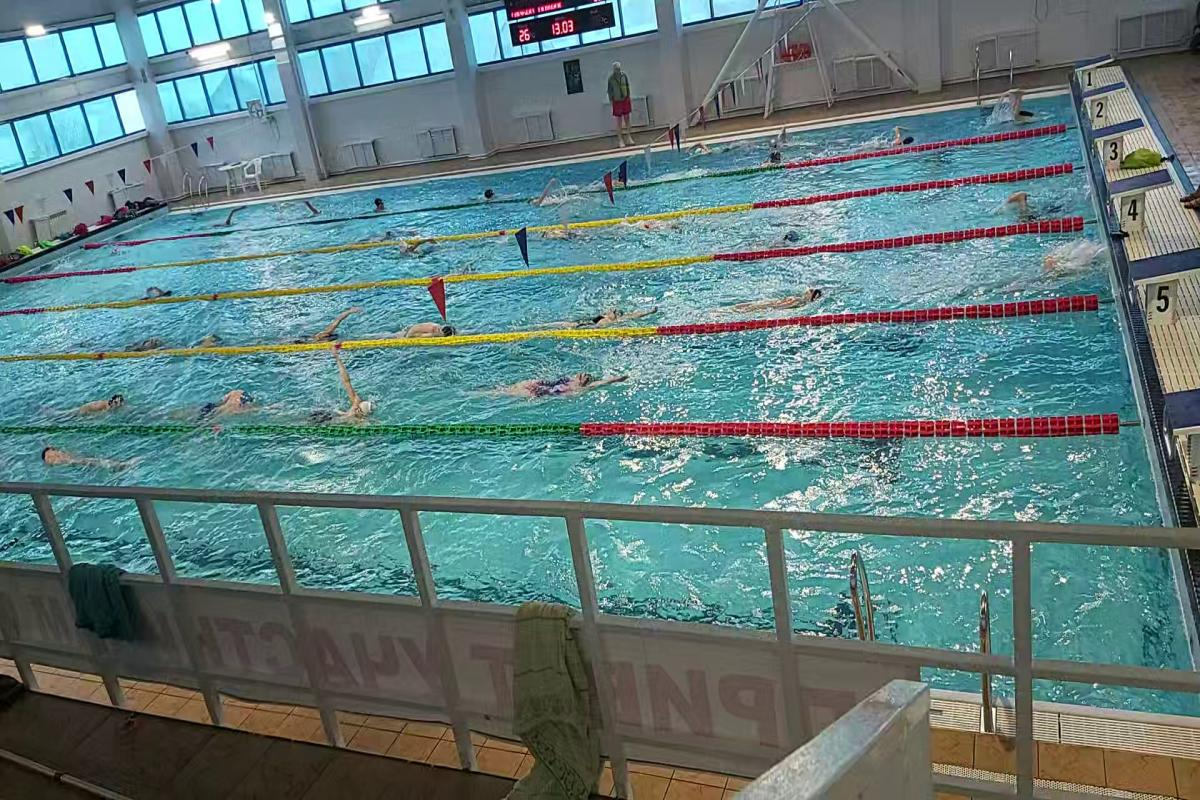swimmer: (483, 360, 641, 407), (294, 364, 386, 426), (718, 279, 836, 318), (35, 438, 137, 480), (190, 380, 274, 423), (544, 300, 664, 330), (279, 303, 367, 342), (59, 384, 140, 421), (383, 311, 473, 338), (391, 235, 446, 260), (528, 187, 572, 213)
